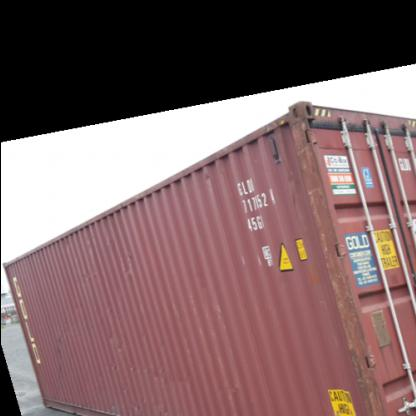Damage: (316, 208, 372, 372), (277, 110, 323, 207)
